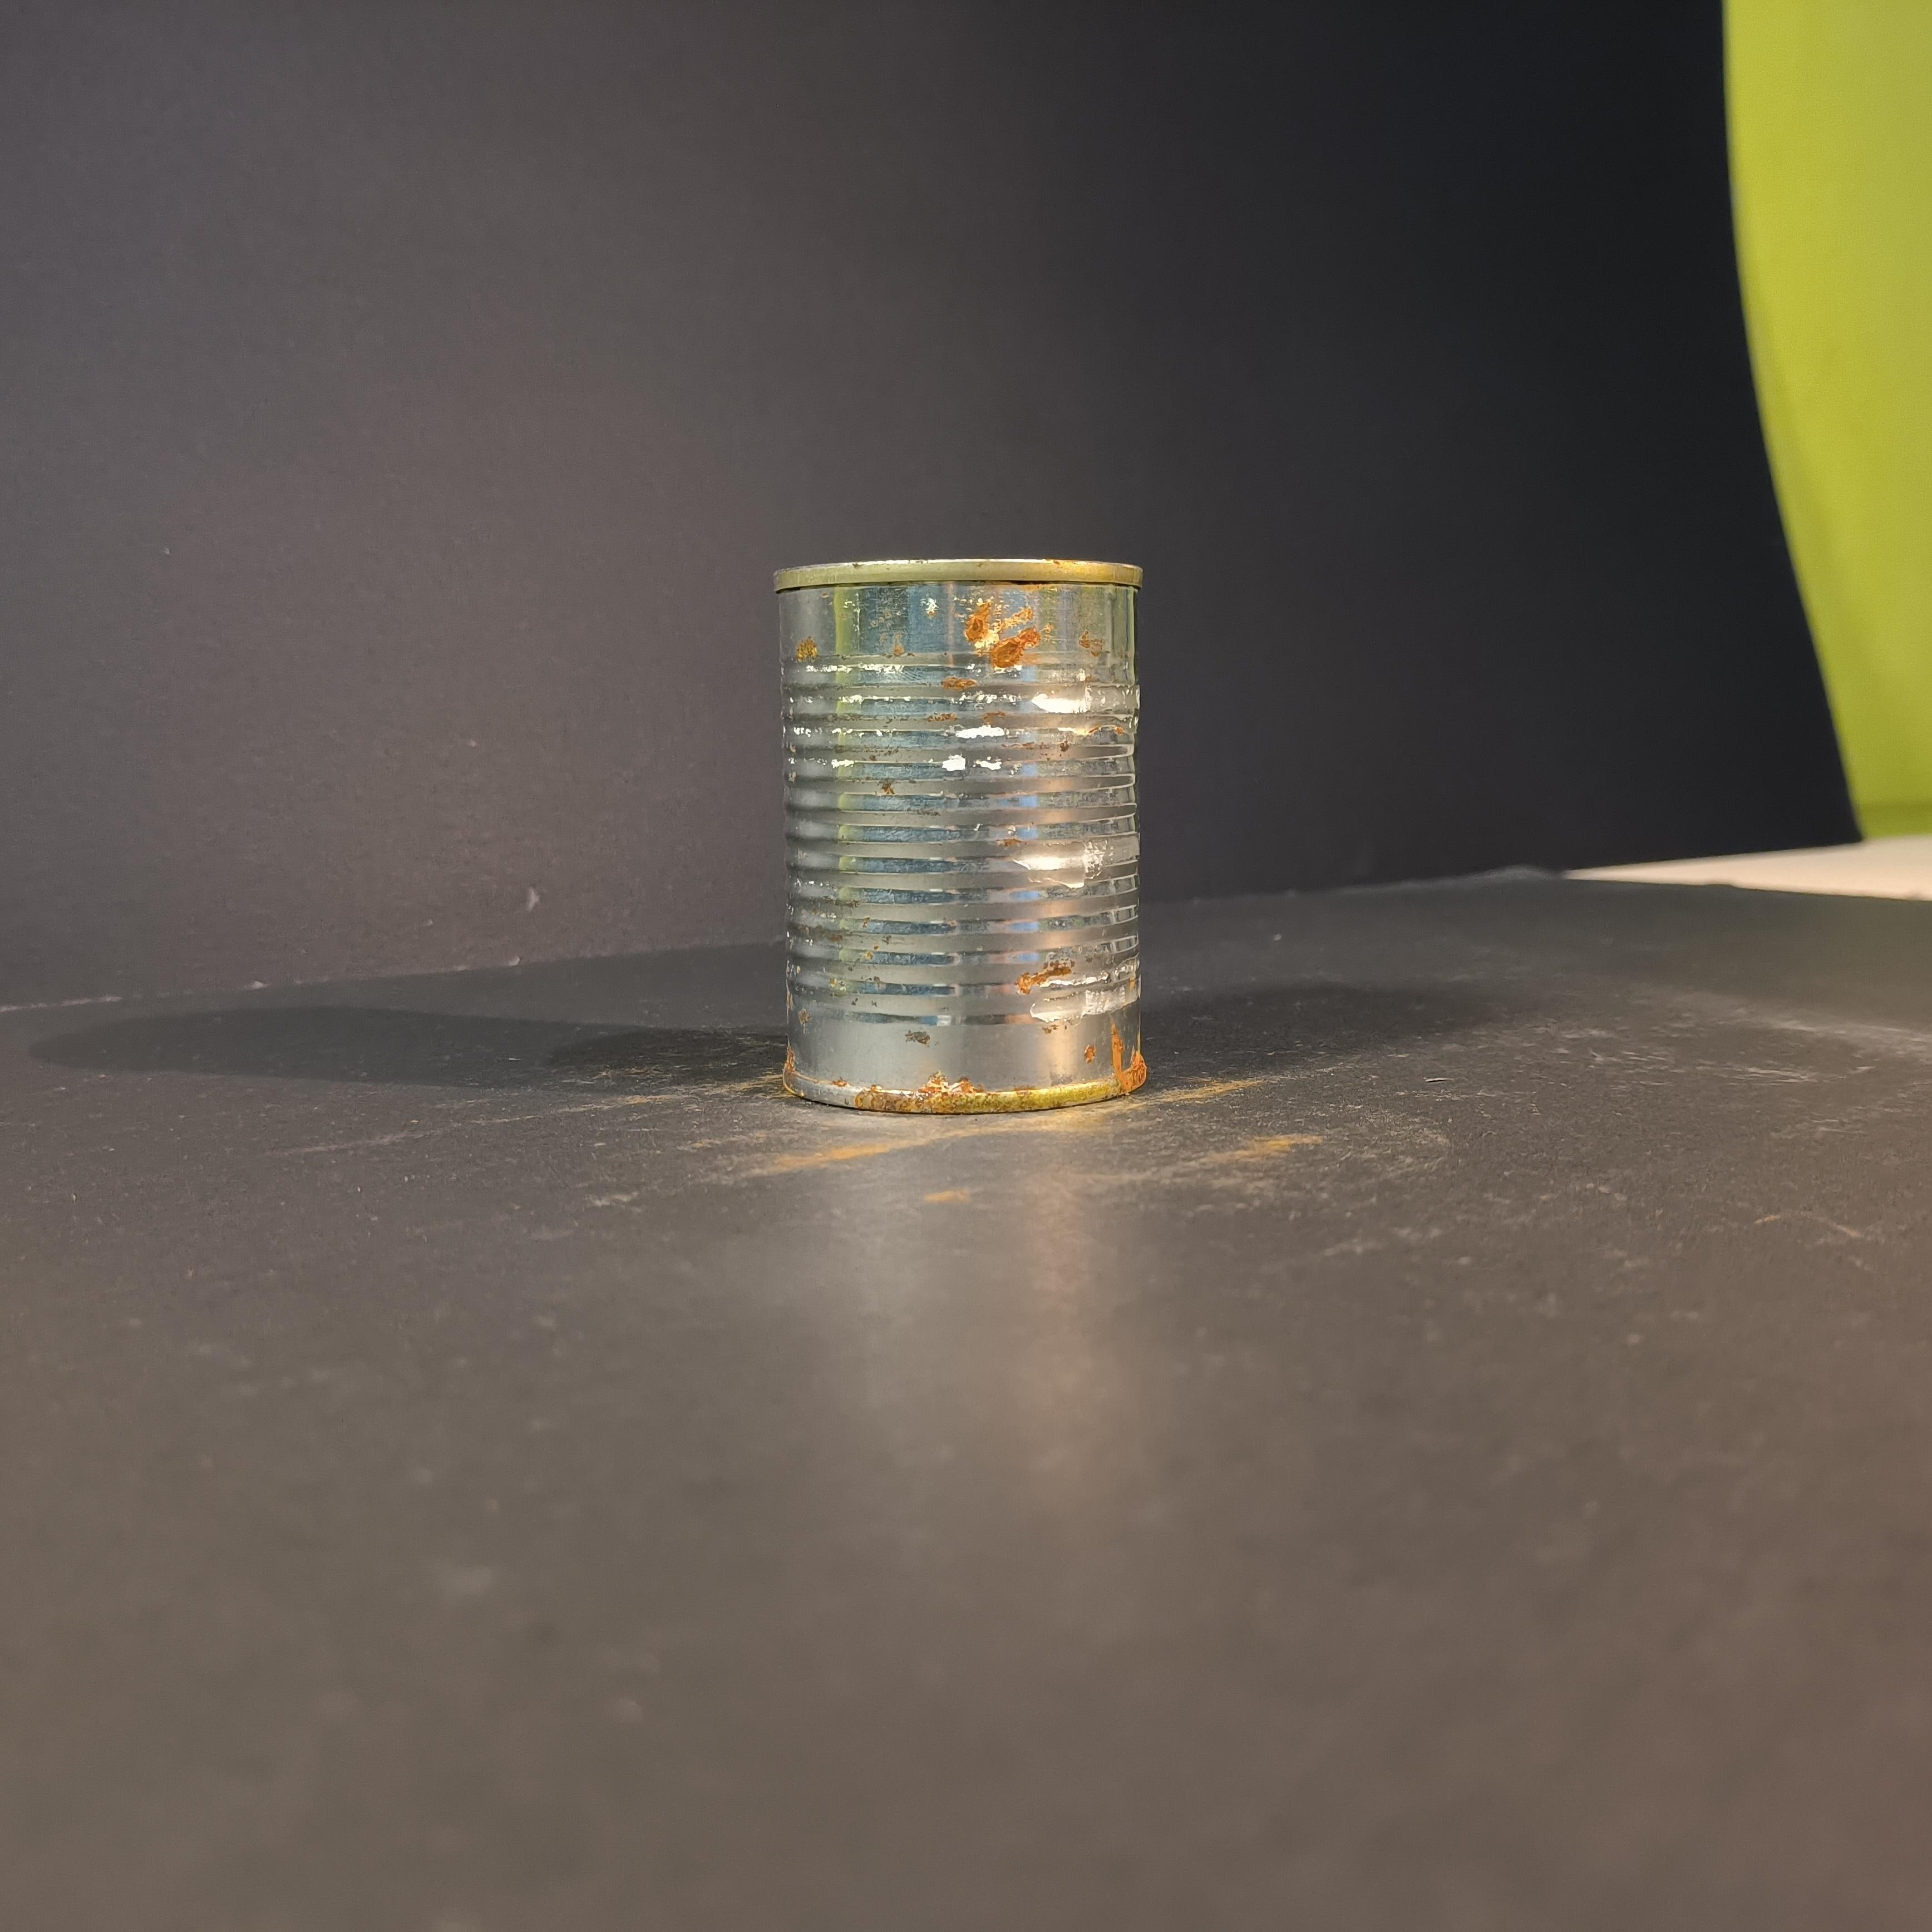Rusted: (754, 543, 1171, 1161)
